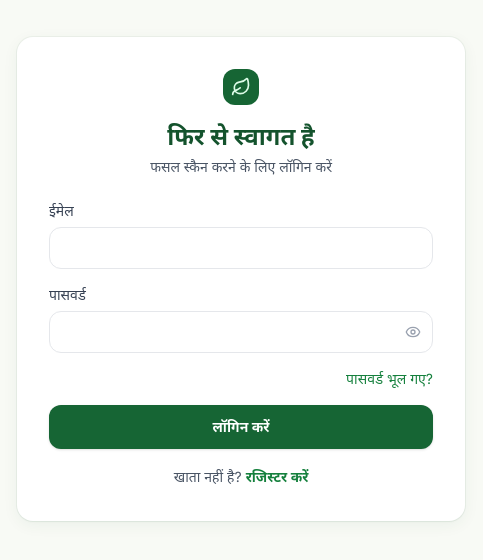
Test: Login form validation › requires email and password
Click the button "लॉगिन करें".
click(241, 428)  # box top-left (49, 406), bottom-right (433, 450)
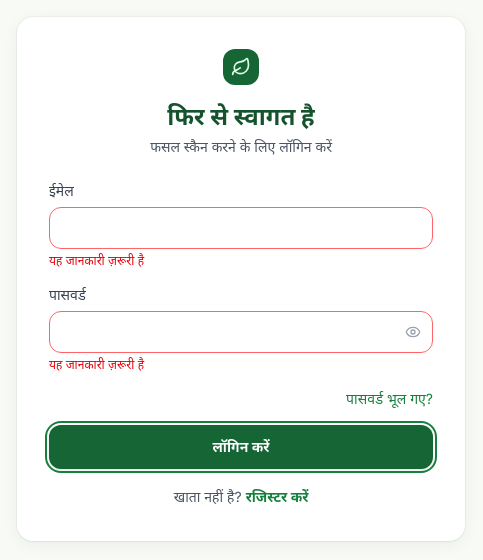
Expected: the text "यह जानकारी ज़रूरी है" is shown 2 times, top-left (49, 254), bottom-right (144, 268); top-left (49, 358), bottom-right (144, 372)
